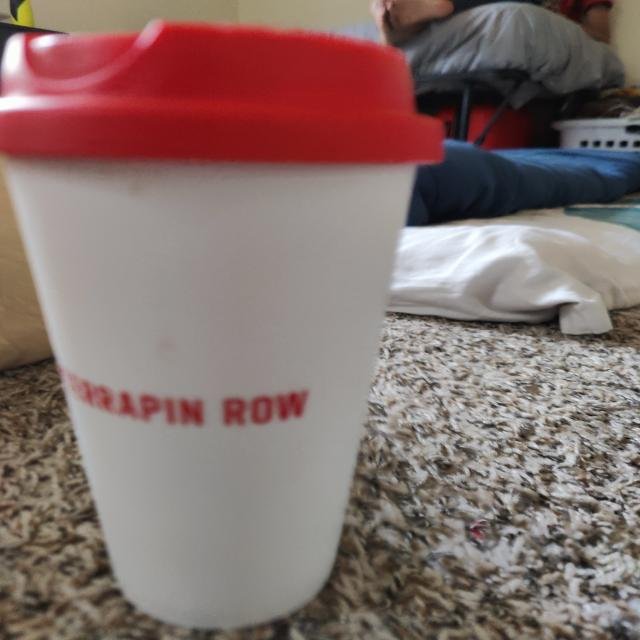mug: (0, 31, 443, 624)
